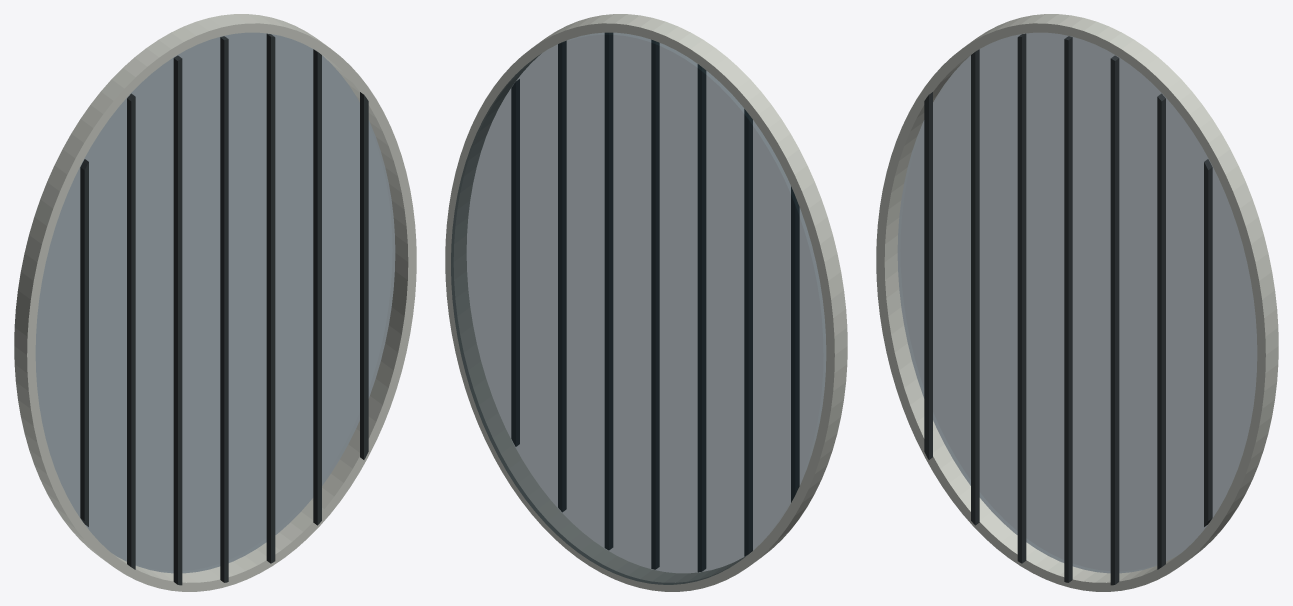
Rendered from moderno_ellipse_con_reja.glb.
The picture shows the model from 3 angles, left to right: view 1: azimuth 30°, elevation 25°; view 2: azimuth 150°, elevation 25°; view 3: azimuth 330°, elevation 25°; orthographic projection.
Visible parts, largest first — view 1: window_glass#0001, window_grille#0001, window_reveal#0001; view 2: window_glass#0001, window_reveal#0001, window_grille#0001; view 3: window_glass#0001, window_grille#0001, window_reveal#0001.
Boxes of the visible parts, x1,y1,x2,y2 form: window_glass#0001: (35,32,395,573); window_grille#0001: (80,33,368,585); window_reveal#0001: (14,14,416,591); window_glass#0001: (451,32,826,584); window_reveal#0001: (445,14,847,591); window_grille#0001: (511,33,799,571); window_glass#0001: (897,32,1257,573); window_grille#0001: (924,33,1212,585); window_reveal#0001: (876,14,1278,591).
Bounding box in the file's own units: 1.6 × 2.2 × 0.145.
